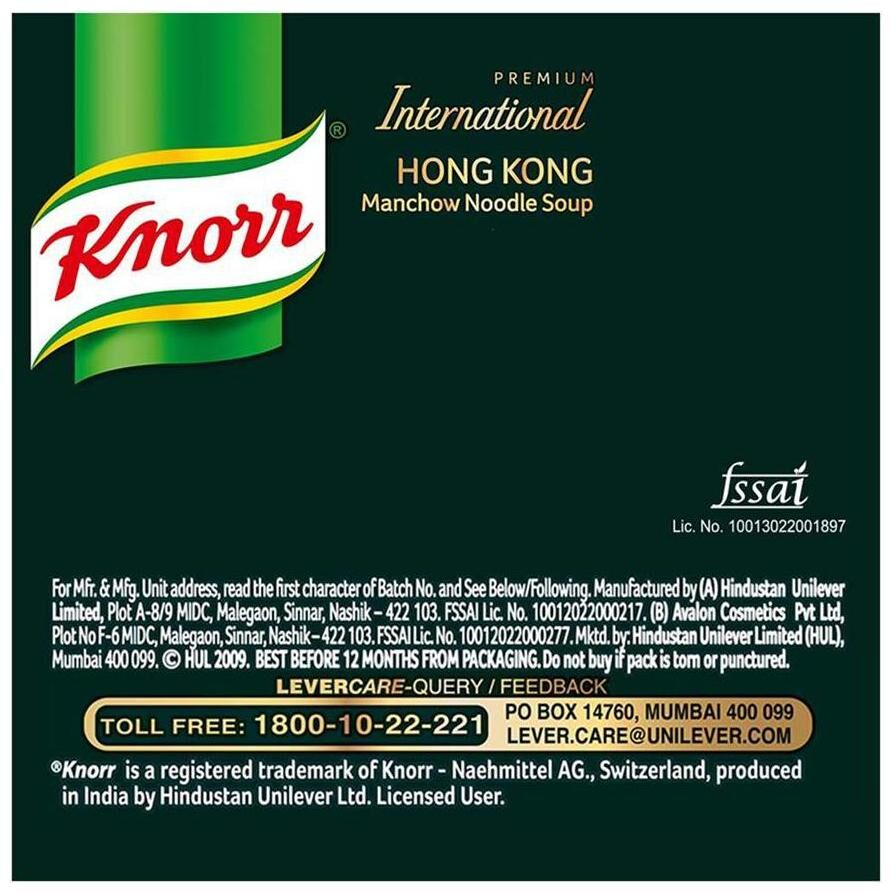fssai: (704, 458, 812, 513)
